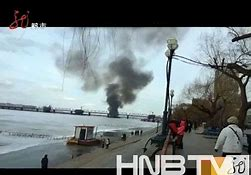smoke: (57, 50, 152, 105)
